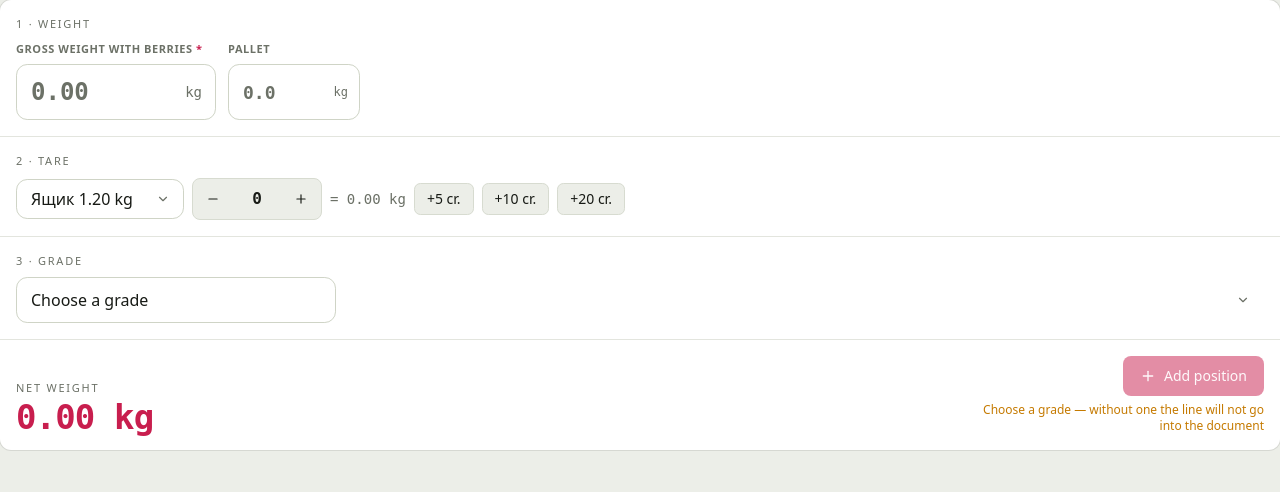
Test: WeighingForm › leaves the pallet out of the formula when there is none — W4
Type "18.10" into the field labelled "Gross weight with berries" at (116, 92), box [16,64,216,120]
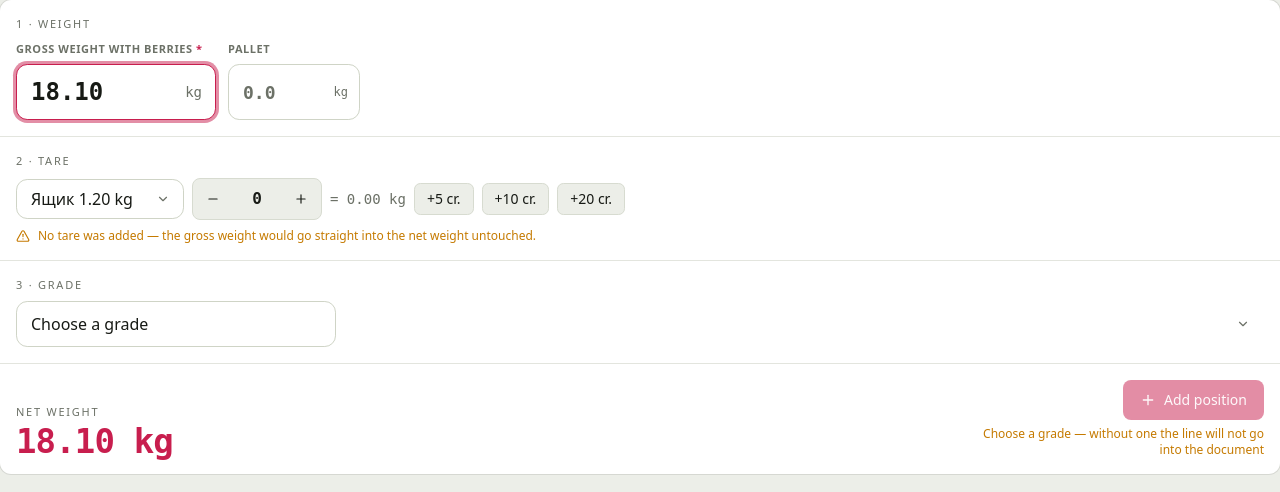
Replace the text in the field named "Number of crates" with "2" at (257, 198), box [233,186,281,210]
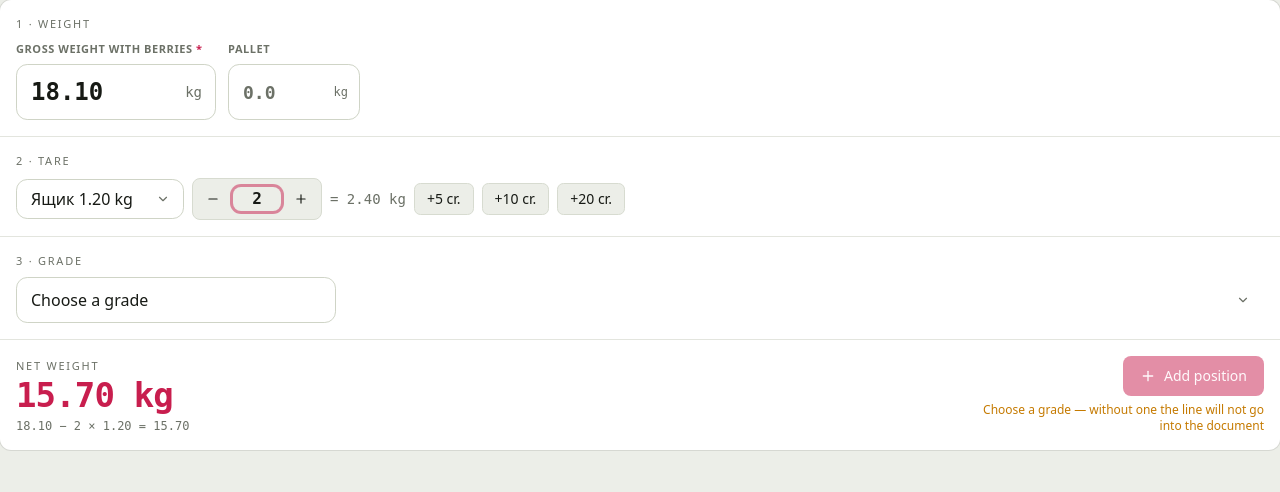
Result: the text with test id "net-formula" reads "18.10 − 2 × 1.20 = 15.70" at [16,419,189,433]
